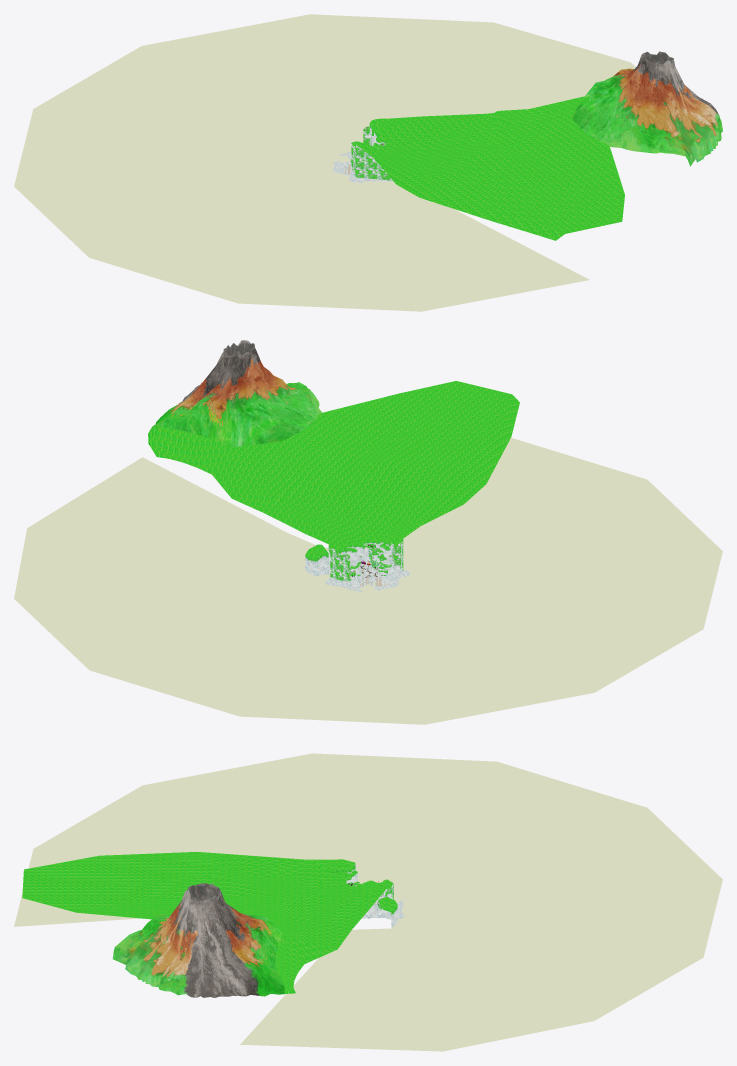
File: NokiBay.obj
3 views of the same model, one above another, from view 1: azimuth 30°, elevation 25°; view 2: azimuth 150°, elevation 25°; view 3: azimuth 270°, elevation 25° (orthographic).
Size of the model in its own units: 68804 by 13922 by 69138.
Materials: 29 (29 with a texture image).
